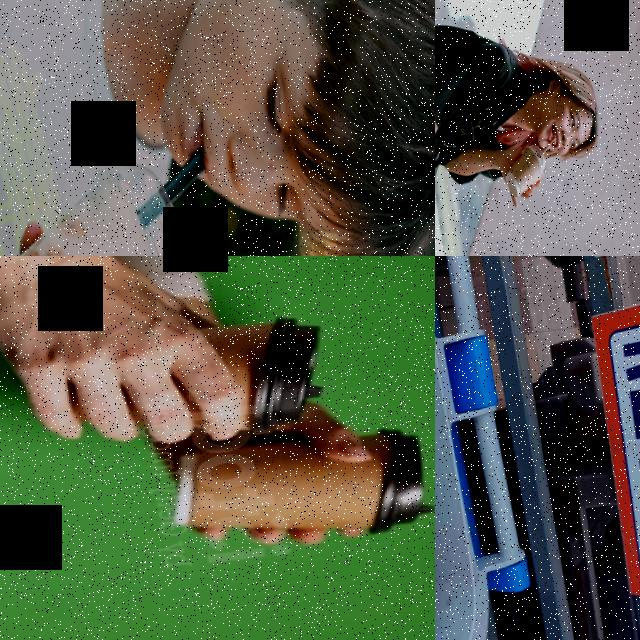cup: (164, 422, 430, 558), (0, 152, 207, 256), (502, 139, 550, 196)
